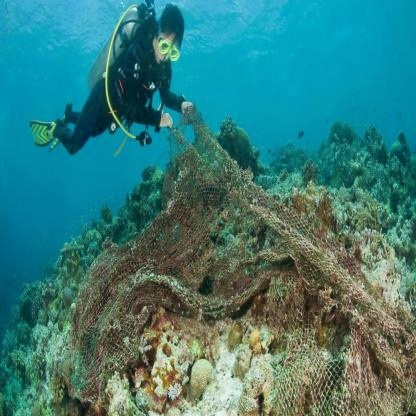net: (69, 127, 412, 416)
